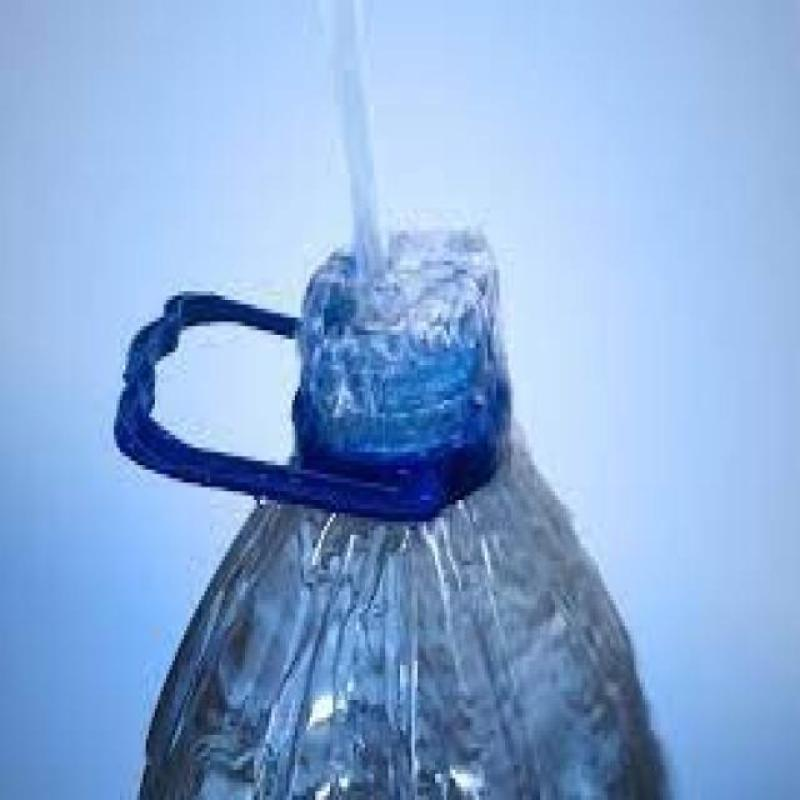botella: (136, 256, 670, 800)
